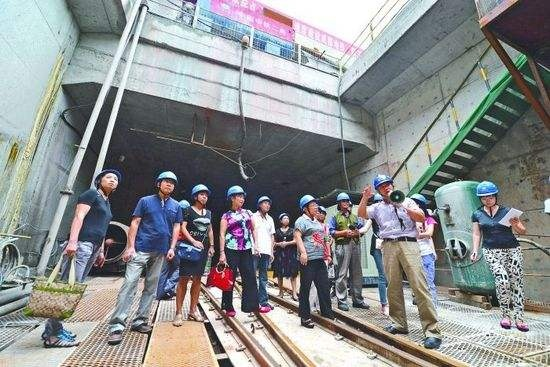blue: (473, 178, 502, 210), (92, 167, 121, 198), (188, 181, 211, 210), (155, 169, 177, 199), (373, 174, 395, 201), (225, 183, 247, 209), (298, 193, 318, 219), (255, 192, 273, 215), (336, 190, 351, 212)
